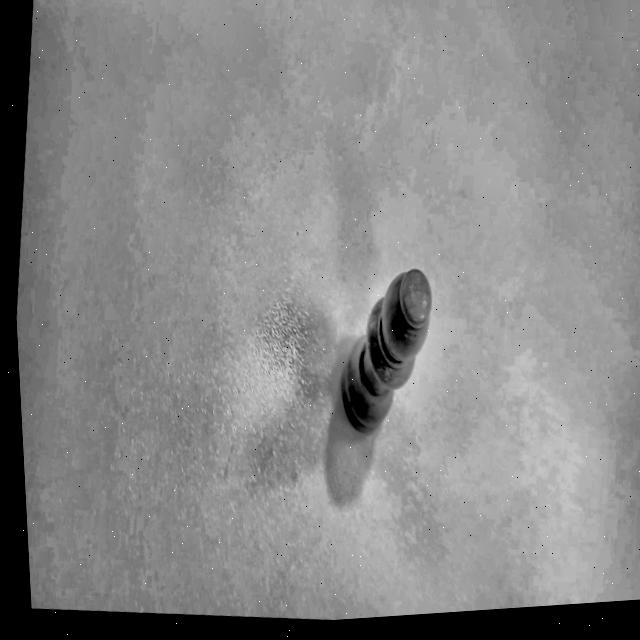white-bishop: (301, 231, 460, 487)
